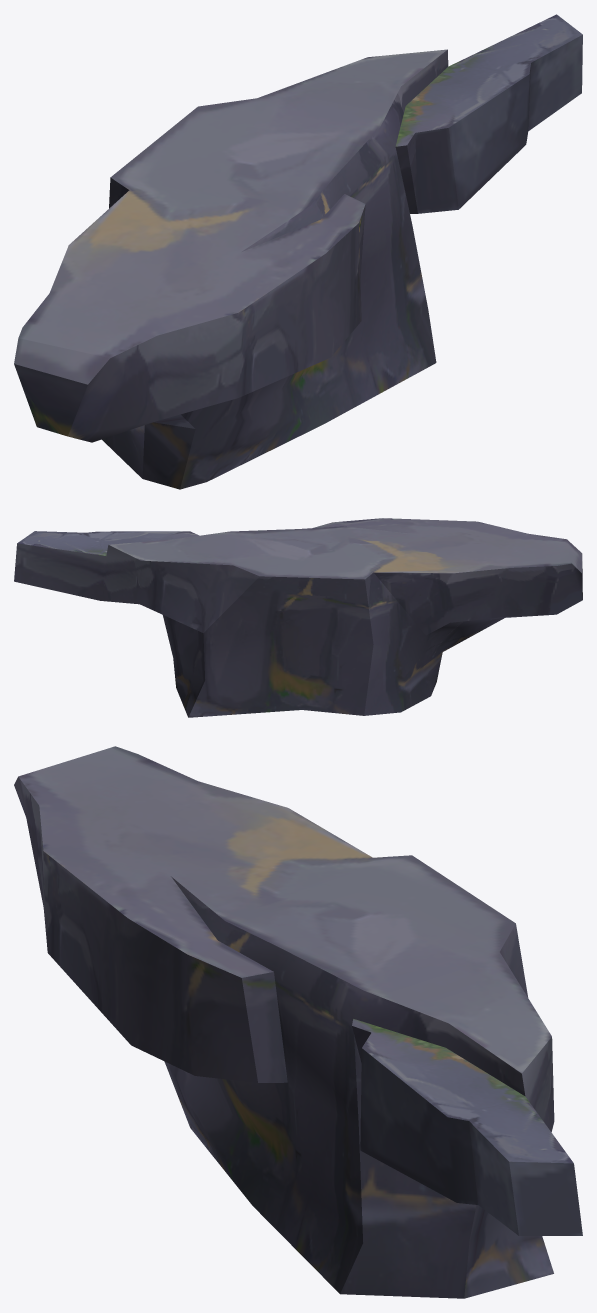
File: scene_malujiakuangdao_shan07_2.FBX
3 renders of one model, top to bottom at view 1: azimuth 30°, elevation 25°; view 2: azimuth 150°, elevation 25°; view 3: azimuth 270°, elevation 25°, orthographic. The views are drawn at different scales.
Parts seen in each view (by area): view 1: scene_malujiakuangdao_shan07_2; view 2: scene_malujiakuangdao_shan07_2; view 3: scene_malujiakuangdao_shan07_2.
Boxes of the visible parts, bbox=[...] form: scene_malujiakuangdao_shan07_2: bbox=[14, 14, 582, 489]; scene_malujiakuangdao_shan07_2: bbox=[14, 518, 582, 717]; scene_malujiakuangdao_shan07_2: bbox=[14, 746, 582, 1298].
Bounding box in the file's own units: 714 × 230 × 405.
